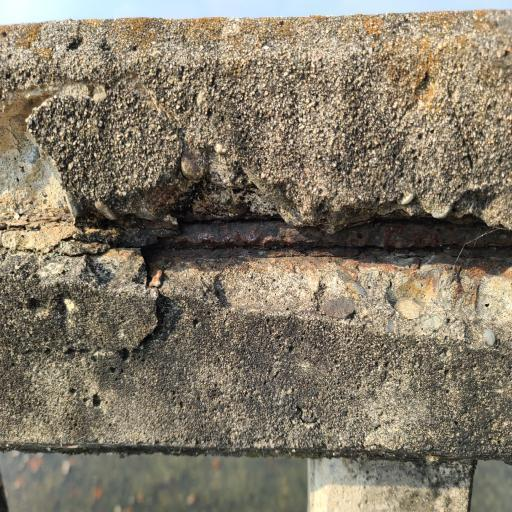exposed_rebar: (75, 220, 512, 256)
